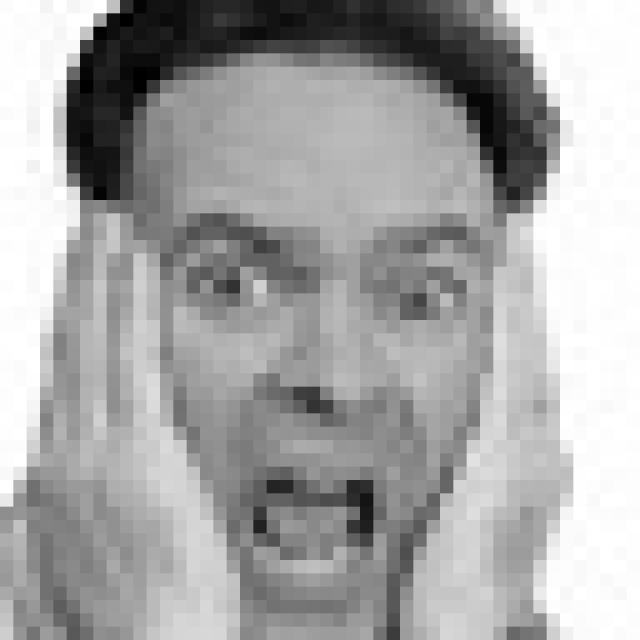surprise: (156, 200, 497, 607)
